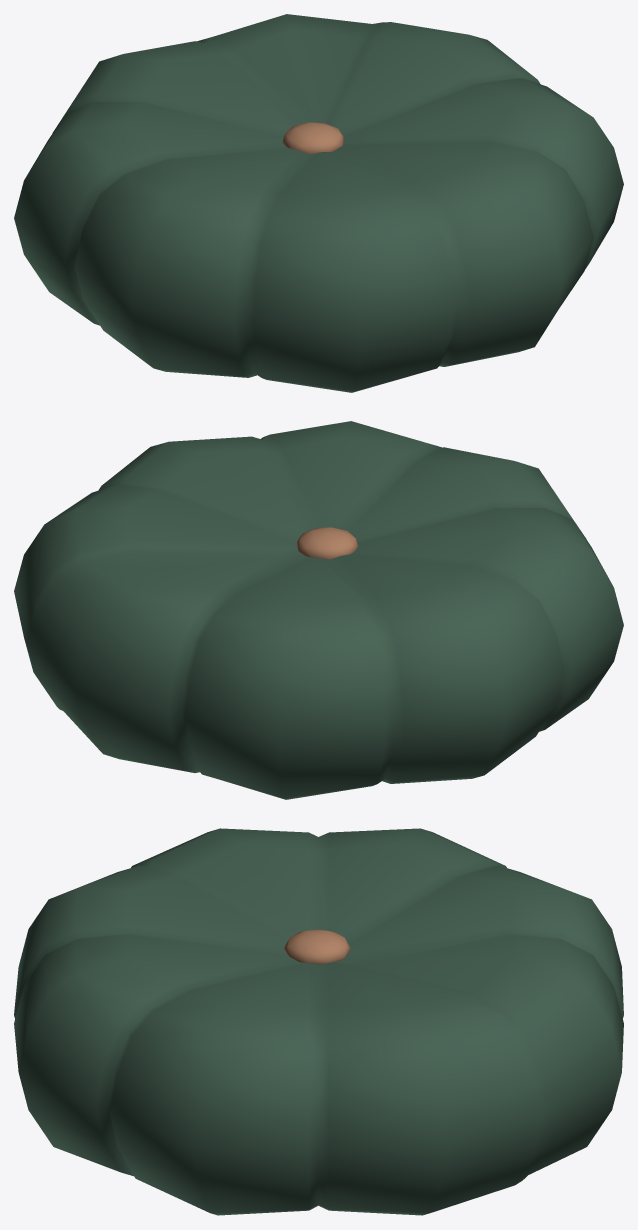
File: fbx_pillow_06.fbx
3 renders of one model, top to bottom at view 1: azimuth 30°, elevation 25°; view 2: azimuth 150°, elevation 25°; view 3: azimuth 270°, elevation 25°, orthographic. The views are drawn at different scales.
Visible parts, largest first — view 1: Cylinder.003; view 2: Cylinder.003; view 3: Cylinder.003.
Boxes of the visible parts, x1,y1,x2,y2 form: Cylinder.003: (14, 14, 623, 392); Cylinder.003: (14, 421, 623, 799); Cylinder.003: (14, 828, 623, 1215).
Bounding box in the file's own units: 2.41 × 0.8268 × 2.41.
